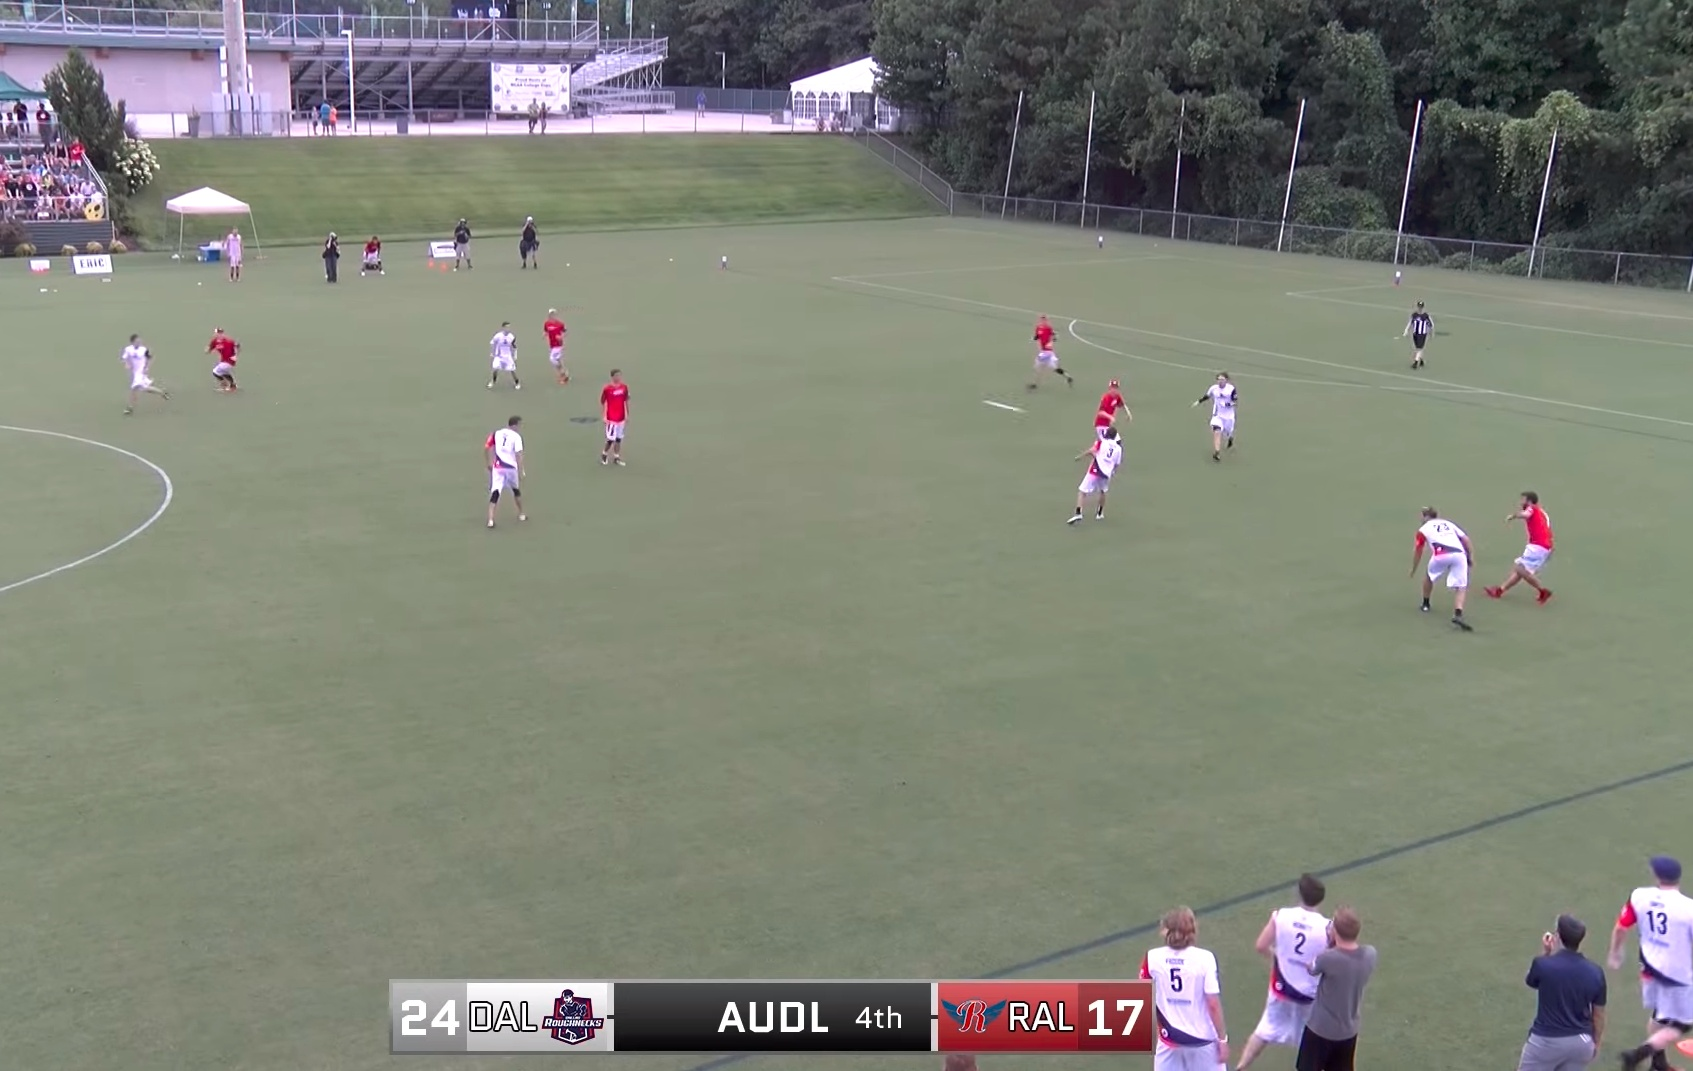frisbee: (983, 399, 1020, 412)
